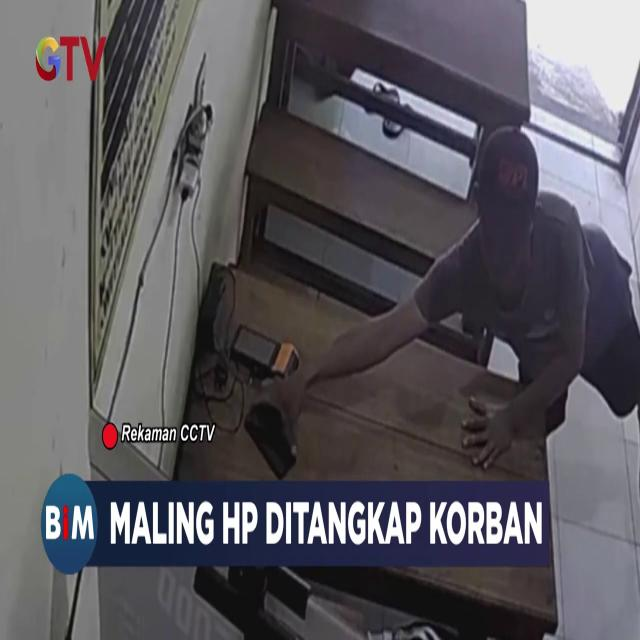pencurian: (252, 118, 640, 462)
